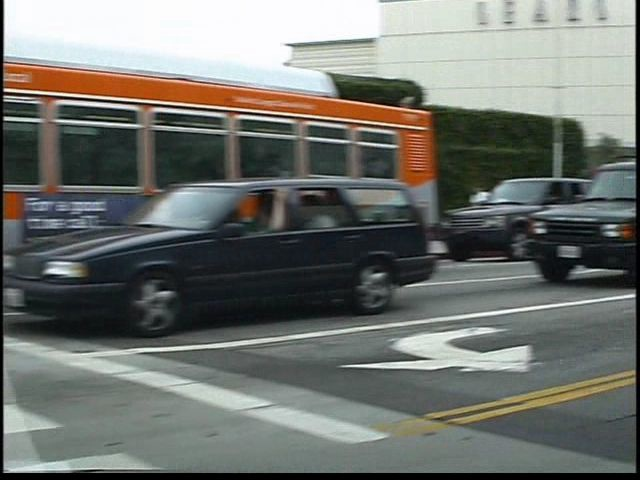person: (485, 178, 515, 243)
